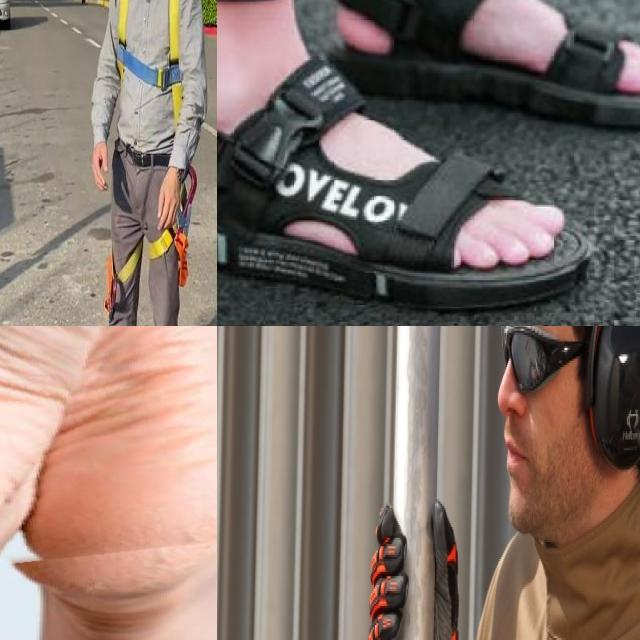Barefoots: (0, 326, 217, 607), (0, 326, 130, 544)
Ear-protection: (586, 326, 640, 471)
Harness: (105, 167, 198, 316), (118, 0, 183, 126)
Sandals: (217, 24, 602, 313)
glasses: (489, 326, 582, 394)
hand_glove: (367, 509, 471, 640)
